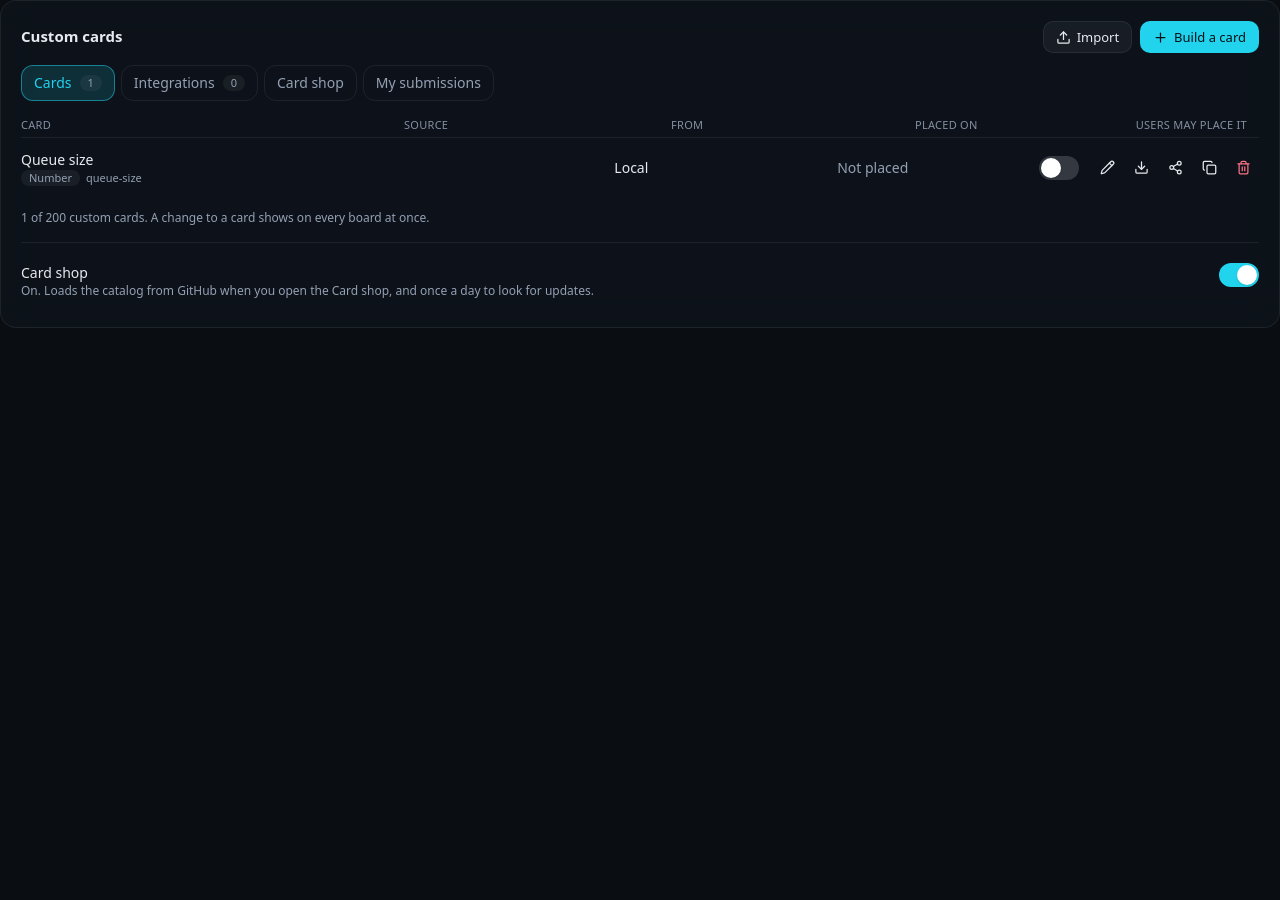
the button and what the dialog asks for › karten16 ac8: a card made from somebody else's says what it is based on
Click the button named "Share Queue size in the Card shop" at (1175, 168), box [1159,152,1191,184]
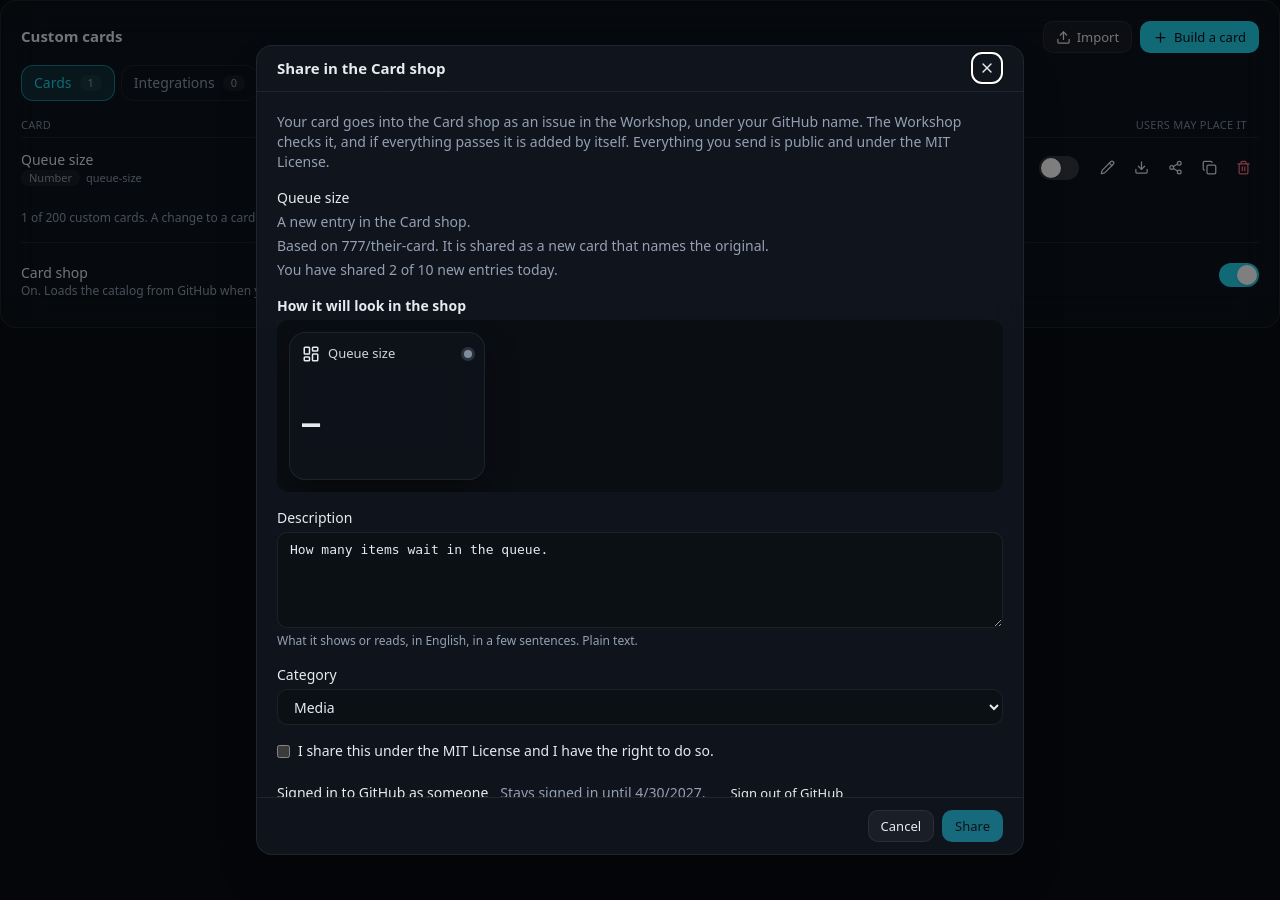
Check: the text "Based on 777/their-card" is shown, box [277,236,769,255]
